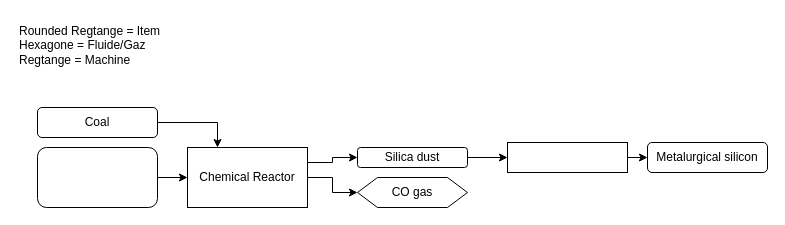
This 785x225 diagram has some shape labels left out. The shapes that lost their labels are listed below. From the top down, each one's centre as x and y in pixels, then its label:
At (x=97, y=177): "Nether Qwartz".
At (x=567, y=157): "Electric ark furnace".
